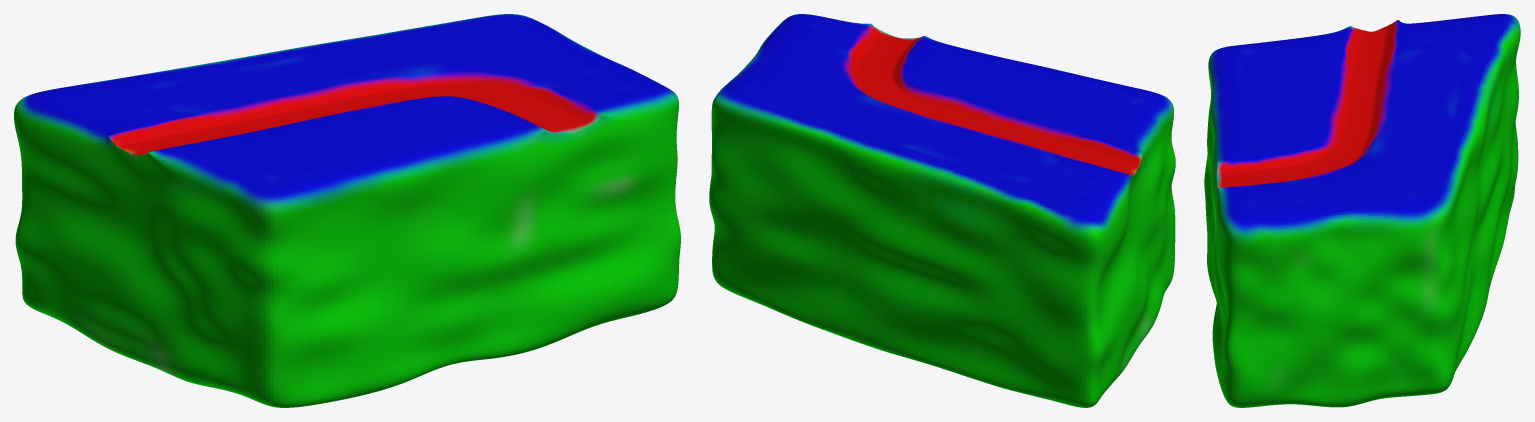
The model's file is level_one_raised_ground_3.fbx.
3 views of the same model, side by side, from view 1: azimuth 30°, elevation 25°; view 2: azimuth 150°, elevation 25°; view 3: azimuth 270°, elevation 25° (orthographic). The views are drawn at different scales.
Parts seen in each view (by area): view 1: RaisedGround03; view 2: RaisedGround03; view 3: RaisedGround03.
Boxes of the visible parts, left/top/right/bottom form: RaisedGround03: left=14, top=14, right=680, bottom=407; RaisedGround03: left=709, top=14, right=1175, bottom=407; RaisedGround03: left=1204, top=14, right=1520, bottom=407.
Size of the model in its own units: 1748 by 2877 by 1209.
